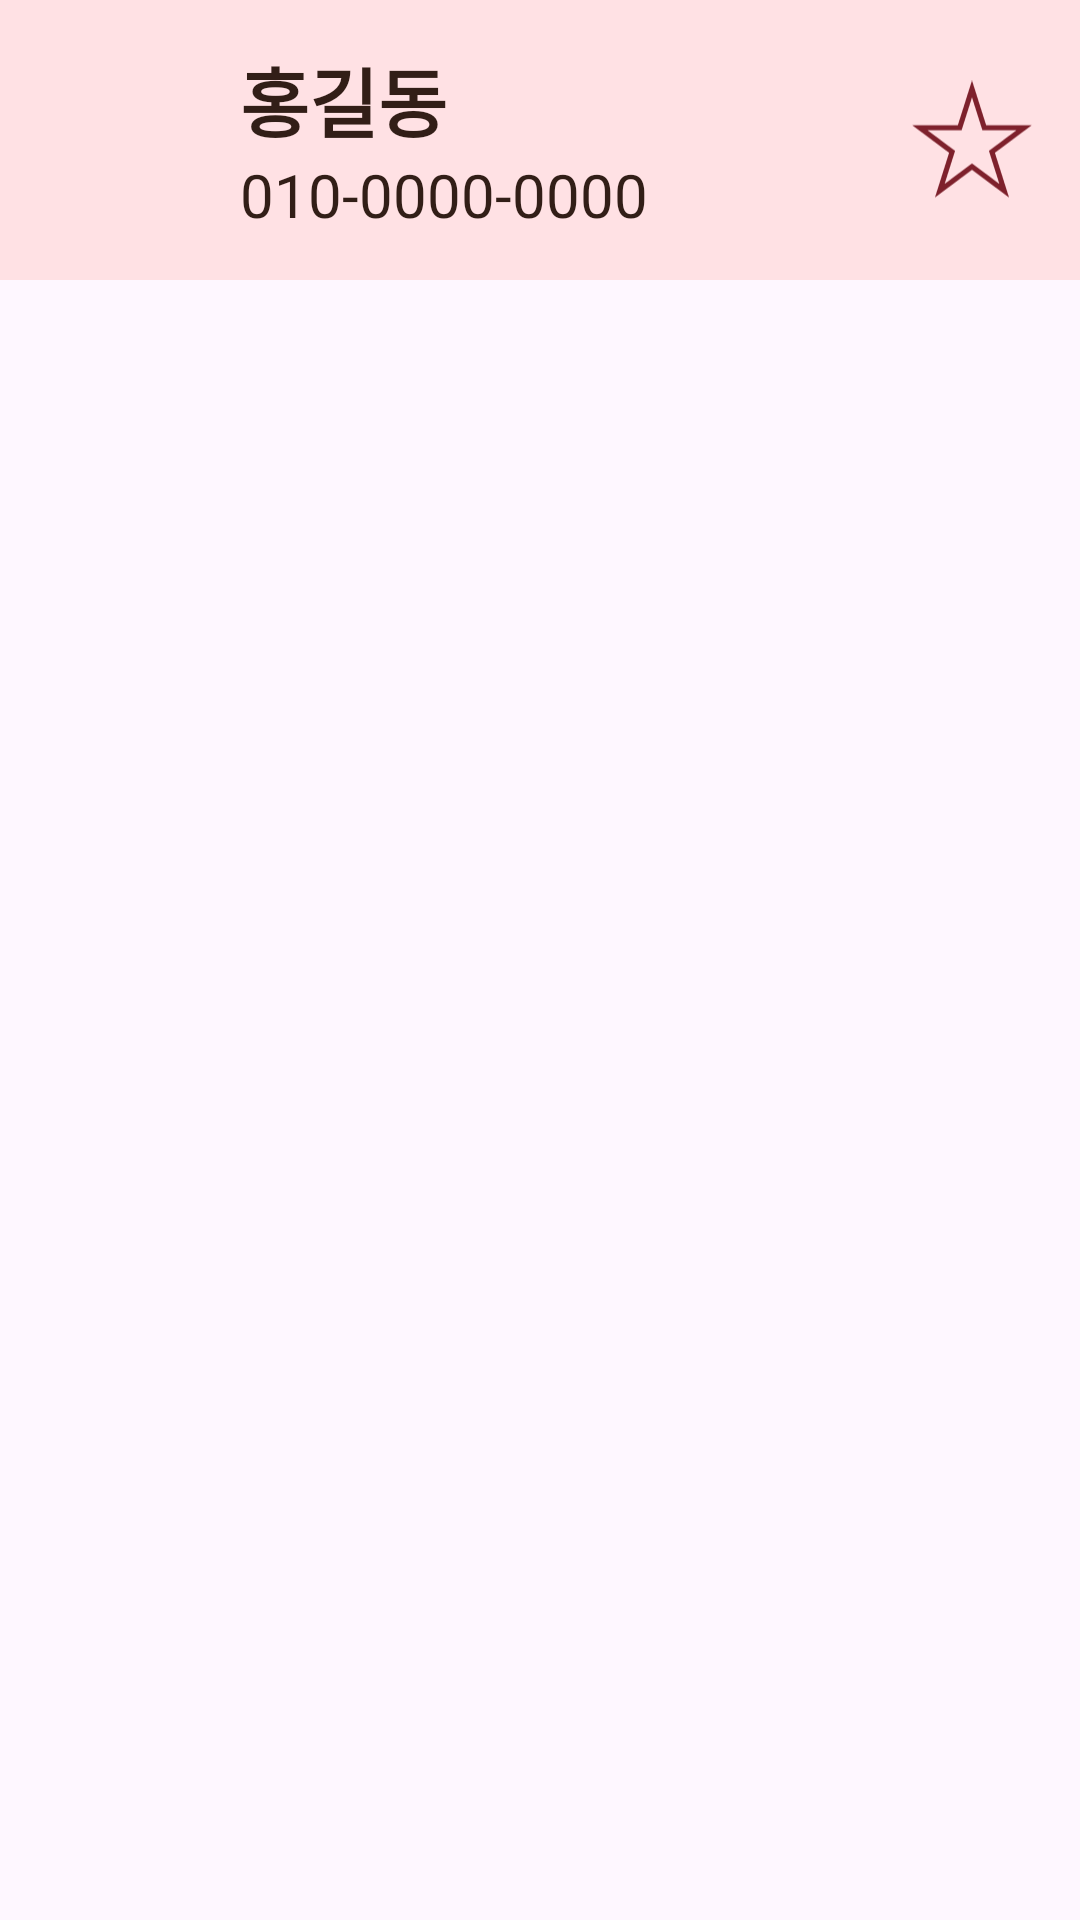

Point at icon controls on the screen. Image size 1080 × 1920, points as point (x, y).
contactfrag star str: point (972, 139)
